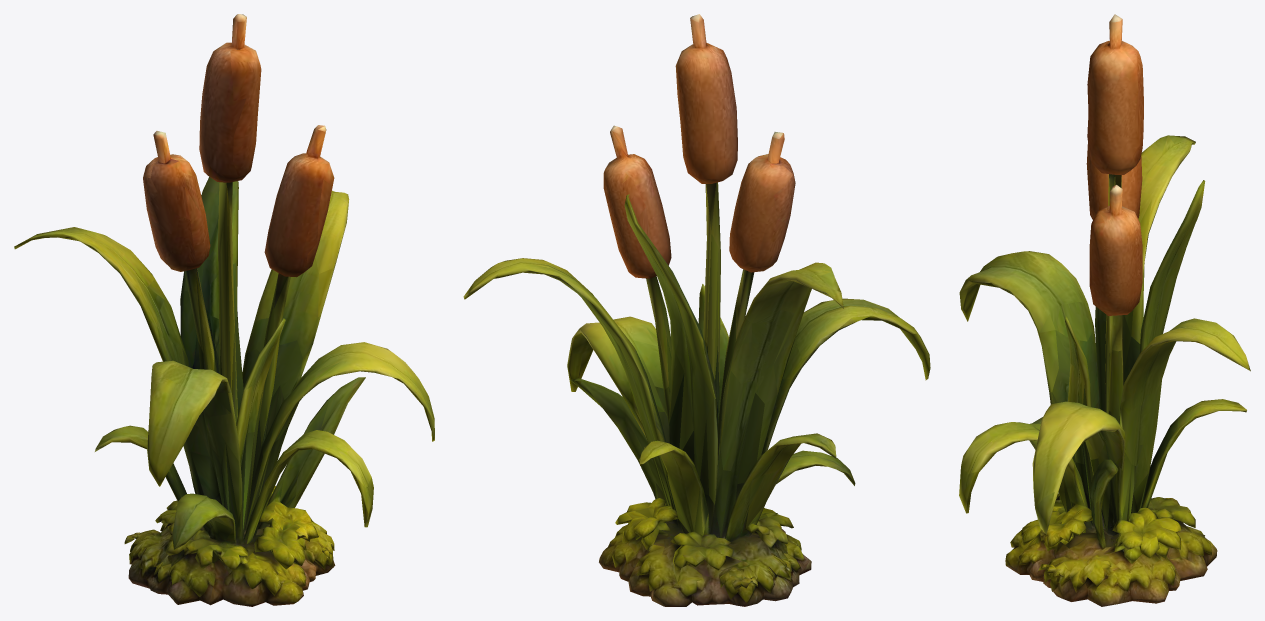
Rendered from reeds.glb.
The picture shows the model from 3 angles, left to right: view 1: azimuth 30°, elevation 25°; view 2: azimuth 150°, elevation 25°; view 3: azimuth 270°, elevation 25°; orthographic projection.
Visible parts, largest first — view 1: tripo_node_347789a8-08ca-44a8-826b-e91563078278; view 2: tripo_node_347789a8-08ca-44a8-826b-e91563078278; view 3: tripo_node_347789a8-08ca-44a8-826b-e91563078278.
Boxes of the visible parts, left/top/right/bottom form: tripo_node_347789a8-08ca-44a8-826b-e91563078278: left=14, top=14, right=434, bottom=606; tripo_node_347789a8-08ca-44a8-826b-e91563078278: left=463, top=14, right=930, bottom=606; tripo_node_347789a8-08ca-44a8-826b-e91563078278: left=959, top=14, right=1250, bottom=606.
Size of the model in its own units: 0.7987 by 1.2 by 0.5724.
1 material, 1 textured.
